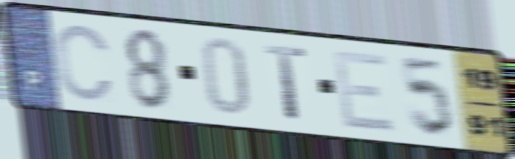0: (198, 35, 254, 120)
5: (396, 54, 456, 139)
8: (122, 26, 175, 113)
C: (53, 22, 117, 105)
E: (329, 48, 399, 135)
T: (261, 41, 311, 124)
